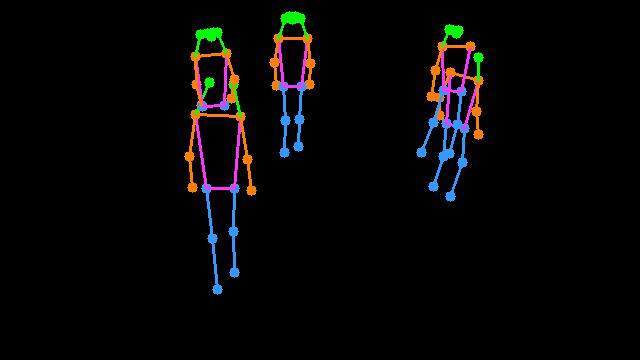normal: (188, 59, 259, 312), (434, 37, 486, 213), (269, 6, 317, 173)
